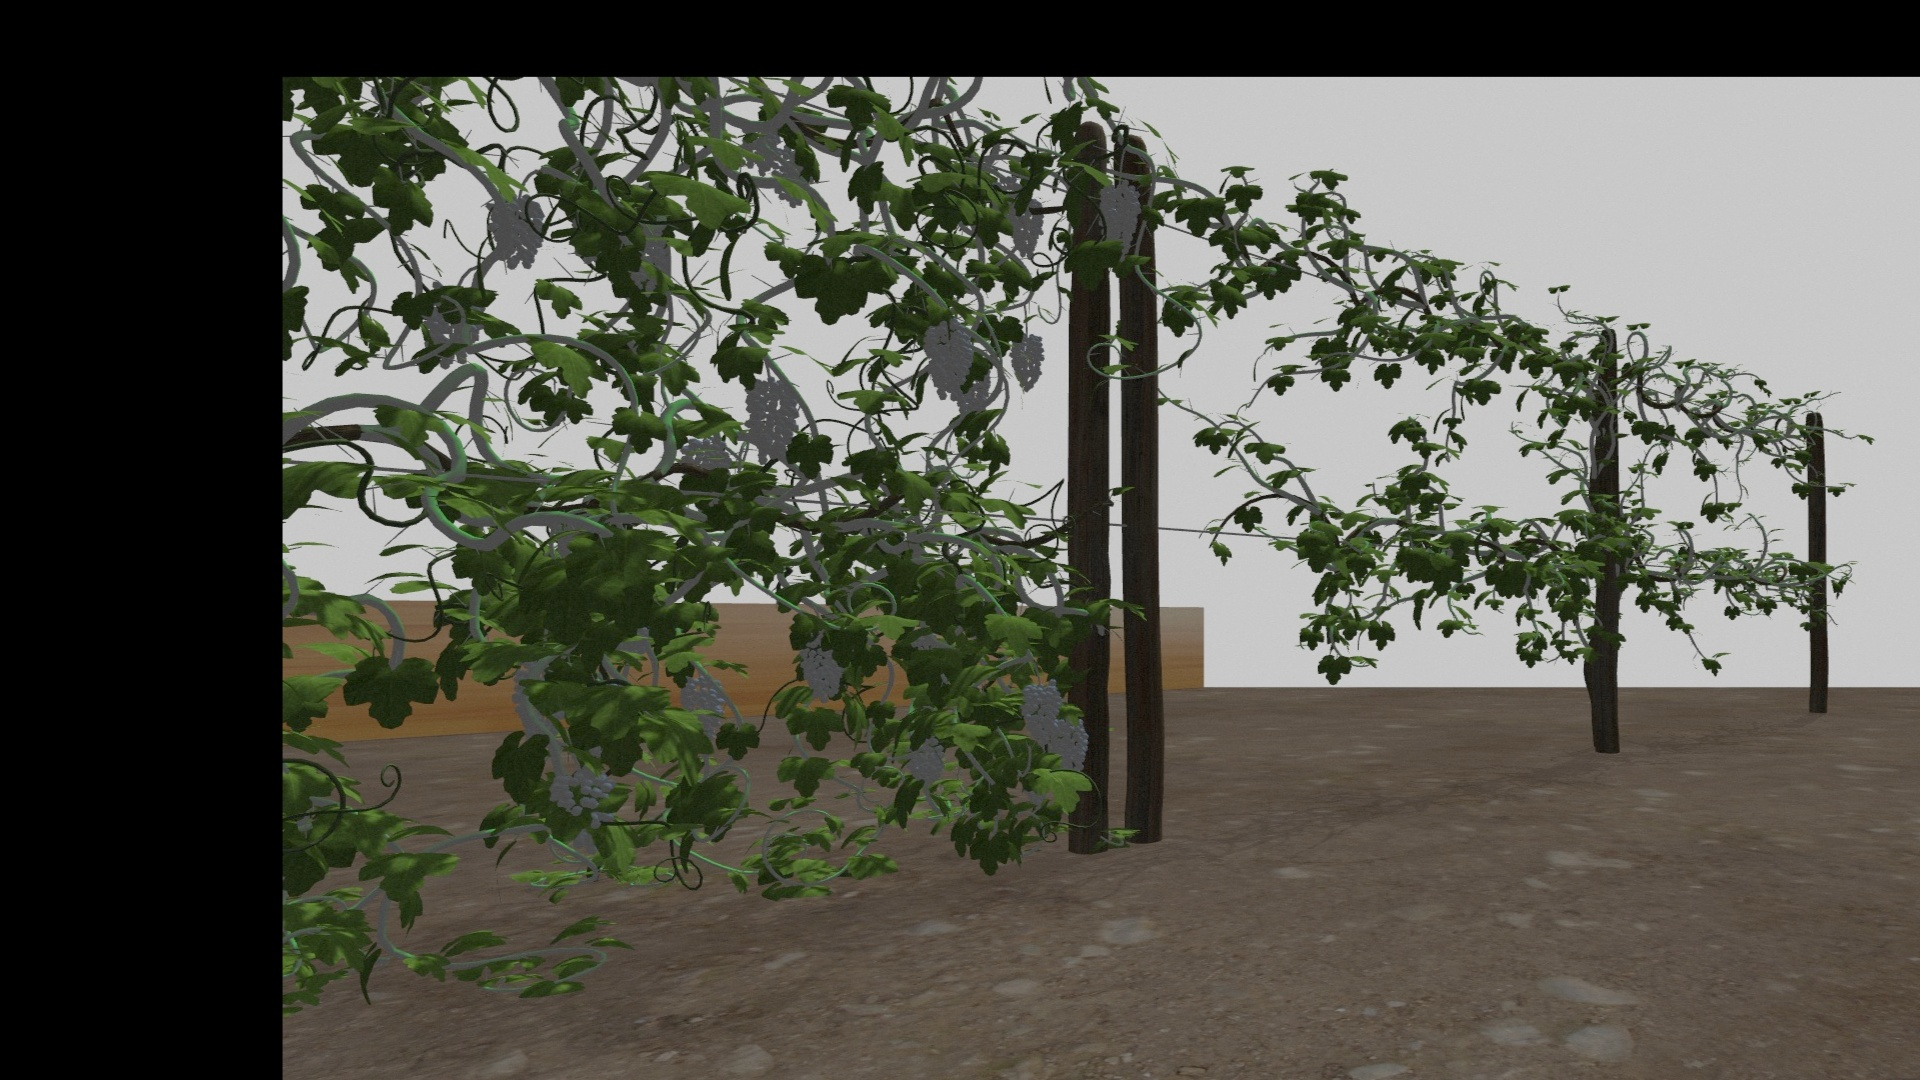grape: (742, 376, 799, 465), (487, 193, 545, 272), (923, 319, 973, 401), (549, 767, 611, 819), (798, 637, 844, 704), (1098, 182, 1141, 253), (678, 673, 723, 737), (1018, 680, 1062, 745), (1004, 196, 1044, 258), (1007, 331, 1046, 392), (905, 735, 947, 785), (1055, 715, 1088, 771)
